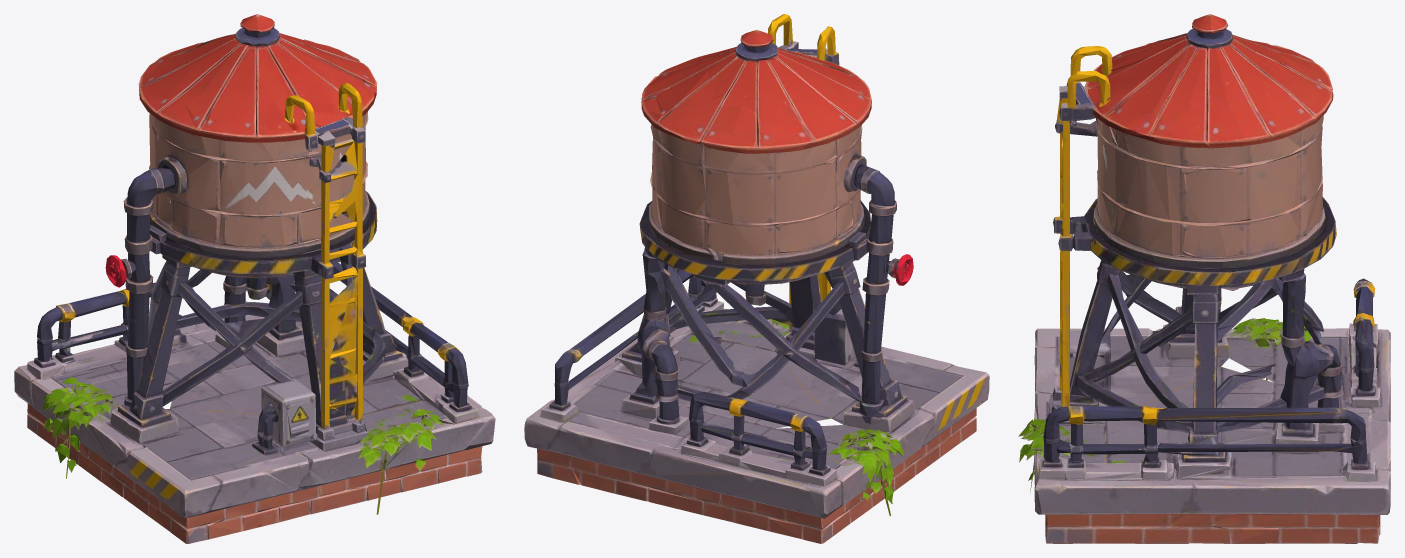
The model's file is water_tower.glb.
3 views of the same model, side by side, from view 1: azimuth 30°, elevation 25°; view 2: azimuth 150°, elevation 25°; view 3: azimuth 270°, elevation 25° (orthographic). The views are drawn at different scales.
Visible parts, largest first — view 1: output_unwrapped; view 2: output_unwrapped; view 3: output_unwrapped.
Boxes of the visible parts, x1=… form: output_unwrapped: x1=14, y1=14, x2=495, y2=543; output_unwrapped: x1=524, y1=14, x2=989, y2=543; output_unwrapped: x1=1018, y1=14, x2=1390, y2=543.
Size of what is drawn, in the model's own units: 0.7664 by 1 by 0.7269.
Materials: 1 (1 with a texture image).
